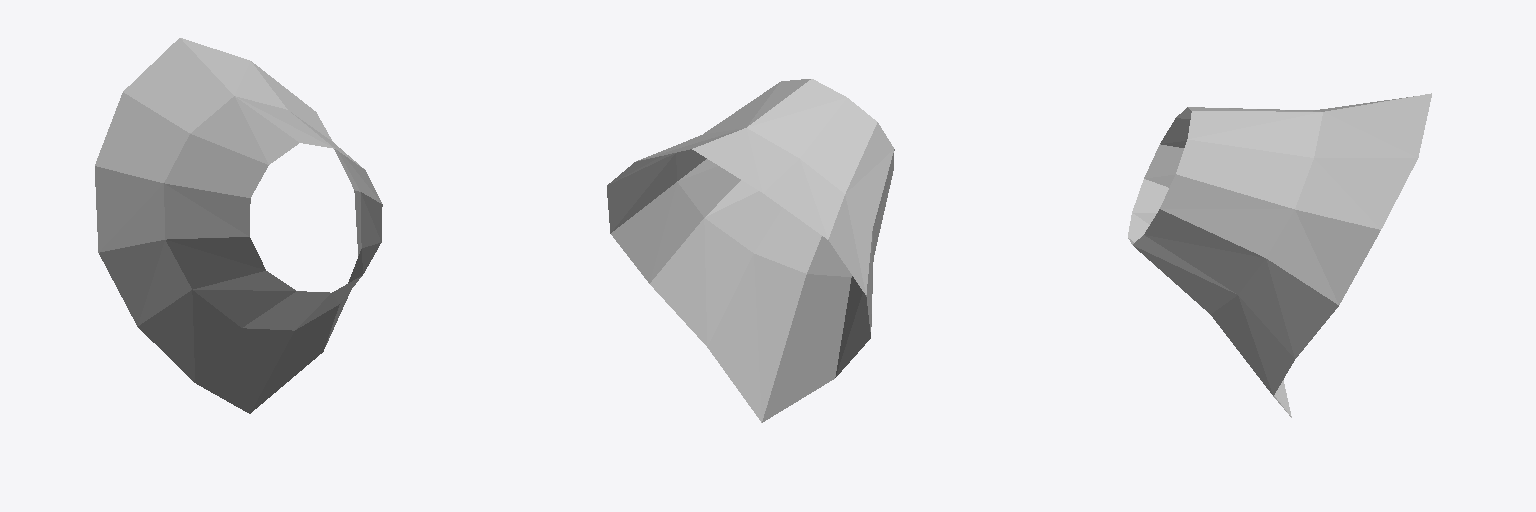
File: cou1.obj
3 renders of one model, left to right at view 1: azimuth 30°, elevation 25°; view 2: azimuth 150°, elevation 25°; view 3: azimuth 270°, elevation 25°, orthographic.
Parts seen in each view (by area): view 1: cou1_Wolf.001; view 2: cou1_Wolf.001; view 3: cou1_Wolf.001.
Boxes of the visible parts, <box> form: cou1_Wolf.001: <box>95,38,382,413</box>; cou1_Wolf.001: <box>607,79,894,422</box>; cou1_Wolf.001: <box>1128,93,1431,417</box>.
Bounding box in the file's own units: 23.83 × 28.94 × 24.59.